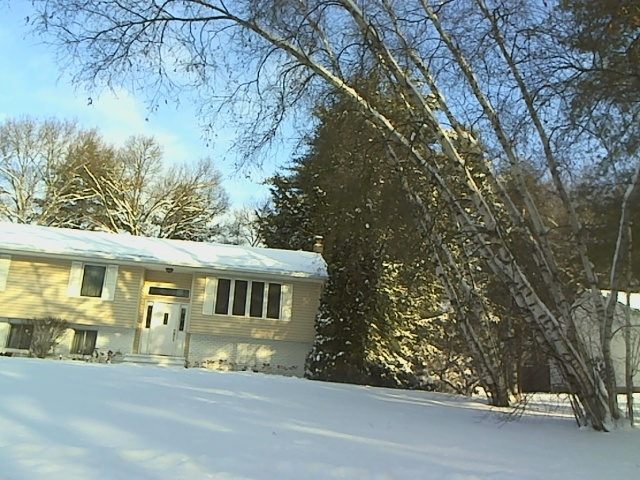Unploughed: (144, 276, 188, 429)
